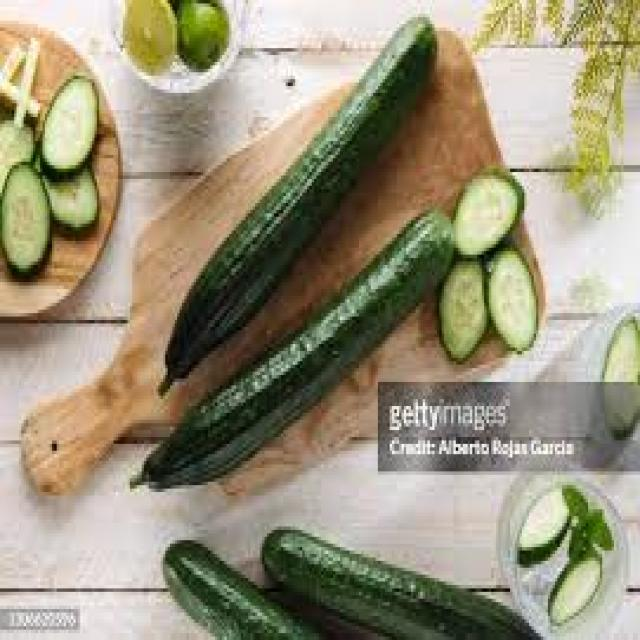Pickle: (164, 16, 434, 392), (134, 209, 454, 487), (263, 528, 539, 639), (164, 541, 320, 639), (1, 164, 50, 274), (43, 76, 97, 172), (455, 175, 516, 256), (489, 250, 537, 351), (440, 260, 487, 362), (43, 166, 99, 230), (549, 557, 599, 624), (519, 488, 567, 551), (0, 125, 33, 194)
